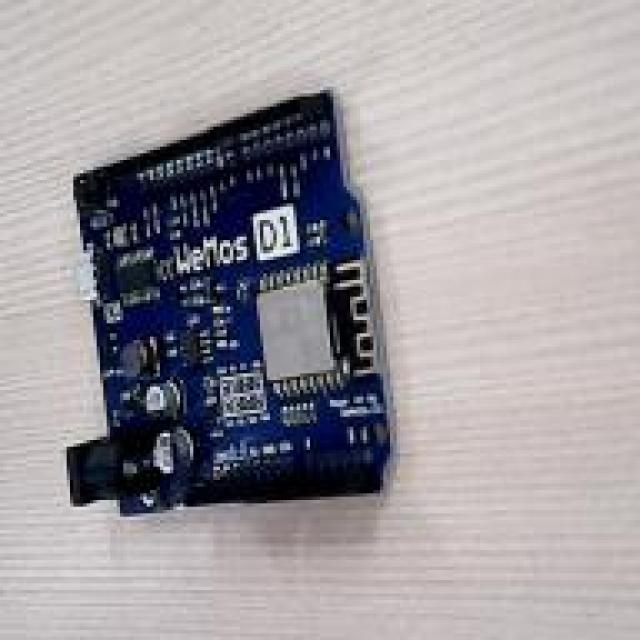Wemos: (68, 91, 391, 514)
